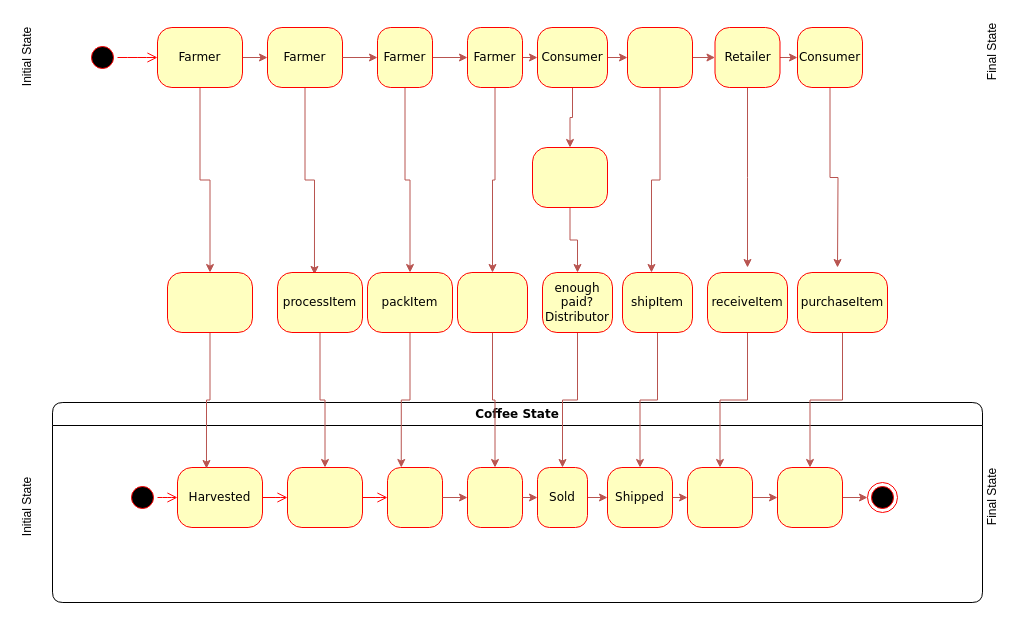
This 1019x620 diagram has some shape labels left out. The centre of each missing label's shape, as x and y in pixels:
buyItem: point 570,177
Distributor: point 659,57
ForSale: point 494,497
harvestItem: point 209,302
Packed: point 414,497
Processed: point 324,497
Purchase: point 809,497
Received: point 719,497
sellItem: point 492,302
